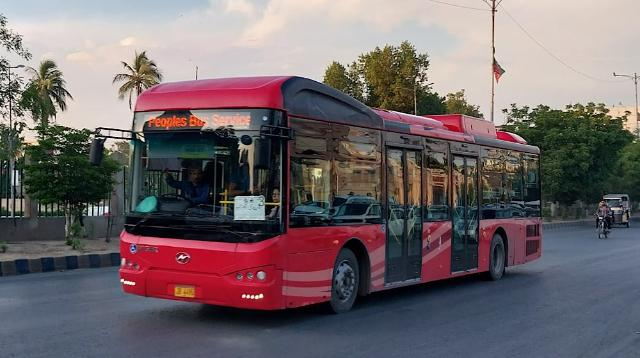Bus: (112, 69, 557, 316)
